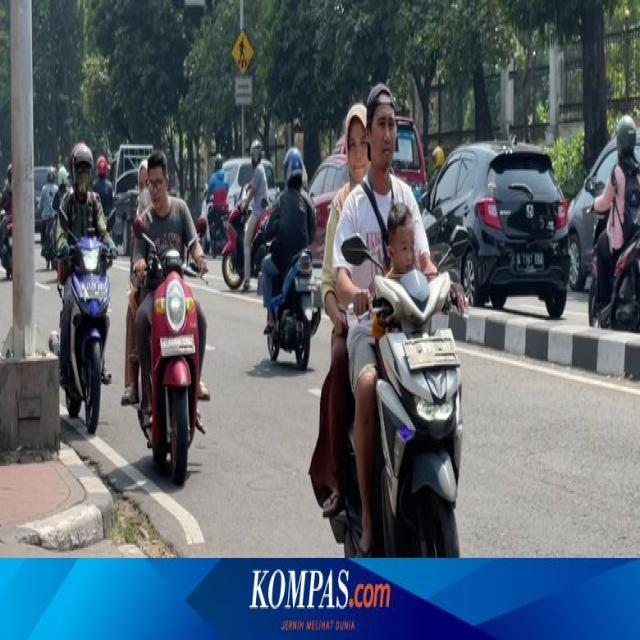Helmet: (71, 143, 92, 197), (71, 143, 92, 183), (616, 115, 635, 154), (284, 147, 303, 185), (250, 139, 261, 164), (432, 146, 444, 168), (96, 155, 107, 177), (57, 165, 67, 185), (46, 166, 55, 183), (214, 153, 222, 170), (7, 163, 11, 181)
Number Plate: (403, 337, 458, 371), (160, 334, 194, 356), (515, 252, 544, 272), (81, 280, 106, 299), (295, 278, 315, 291), (7, 236, 11, 247)
Rearview Mirror: (341, 234, 372, 265), (450, 225, 470, 257), (133, 216, 143, 238), (195, 217, 206, 235), (584, 176, 594, 194), (419, 191, 428, 210)
